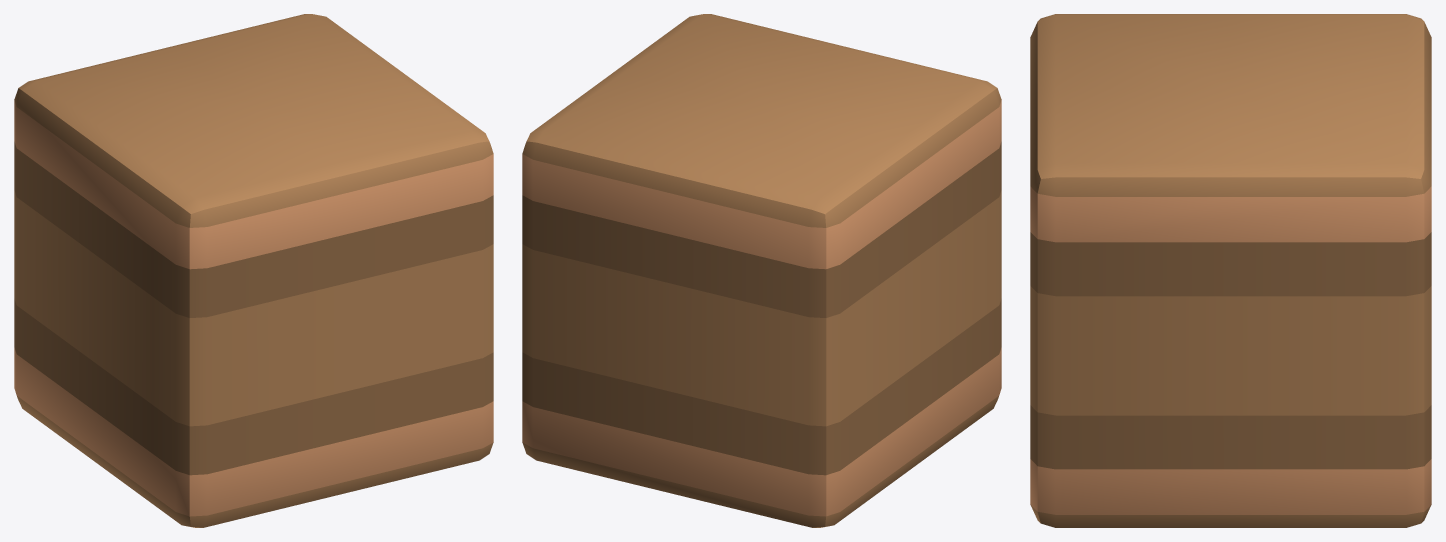
Rendered from quaternius-platformer-game-cube-dirt-single-32.glb.
3 views of the same model, side by side, from view 1: azimuth 30°, elevation 25°; view 2: azimuth 150°, elevation 25°; view 3: azimuth 270°, elevation 25° (orthographic). The views are drawn at different scales.
Parts seen in each view (by area): view 1: Cube_Dirt_Single; view 2: Cube_Dirt_Single; view 3: Cube_Dirt_Single.
Boxes of the visible parts, left/top/right/bottom form: Cube_Dirt_Single: left=14, top=14, right=493, bottom=527; Cube_Dirt_Single: left=522, top=14, right=1001, bottom=527; Cube_Dirt_Single: left=1030, top=14, right=1431, bottom=527.
Size of the model in its own units: 2 by 2 by 2.
